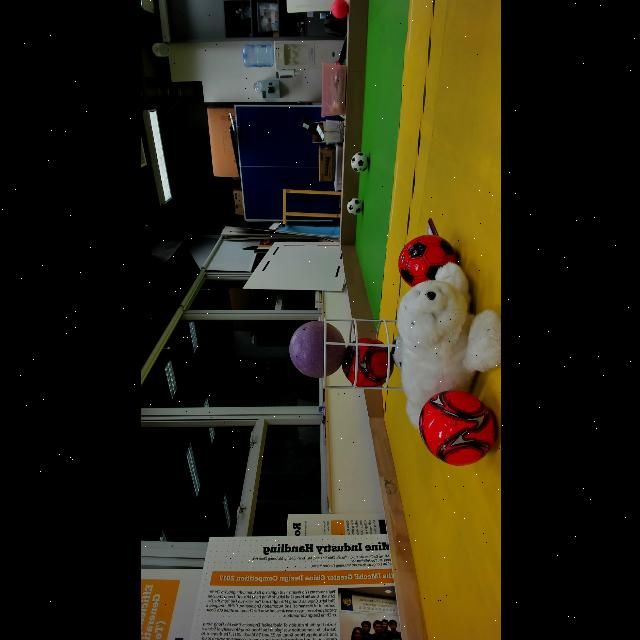P: (288, 320, 346, 380)
R: (418, 388, 500, 467), (392, 233, 462, 295), (340, 336, 392, 390), (329, 0, 351, 22)
S: (322, 318, 426, 392)
